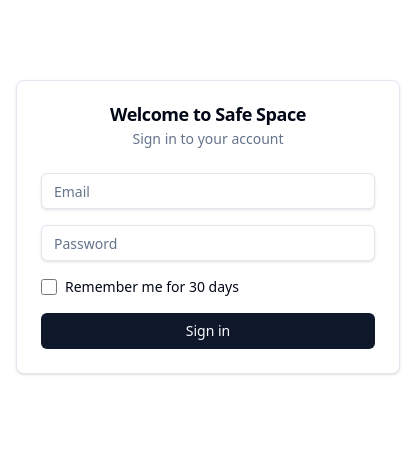
Test: LoginPage › shows Continue button when SSO enabled and email domain does not match
The image size is (417, 457).
# BYO email — domain doesn't match any claimed domain
Type "alice@gmail.com" into the field with placeholder "Email".
click(208, 191); type("alice@gmail.com")  # box [41,173,375,209]
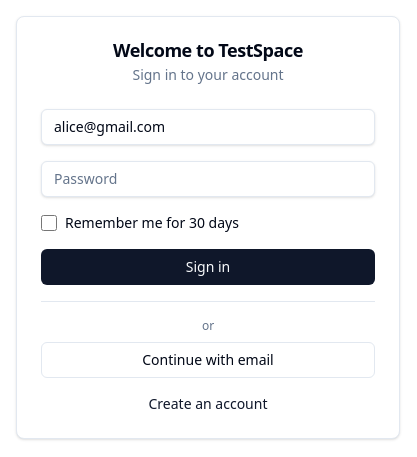
Expected: the button "Continue with email" is shown, [41,342,375,378]
